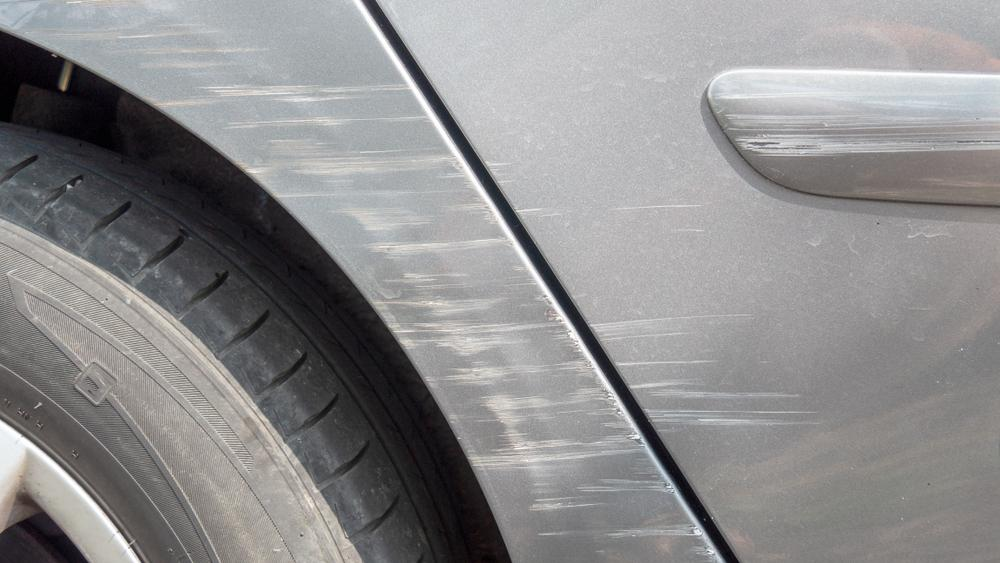scratch: (0, 0, 724, 563), (586, 308, 833, 430), (715, 84, 1000, 160)
